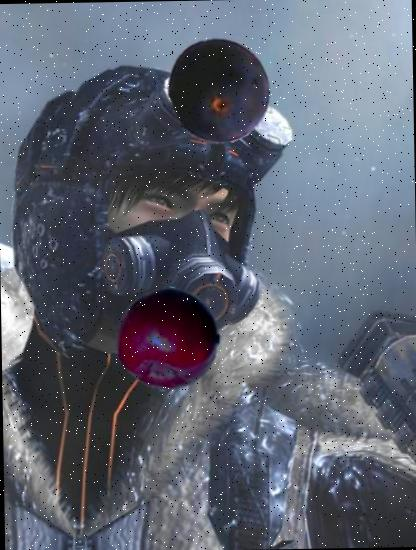Grape: (165, 36, 274, 145)
Plum: (113, 285, 221, 392)
